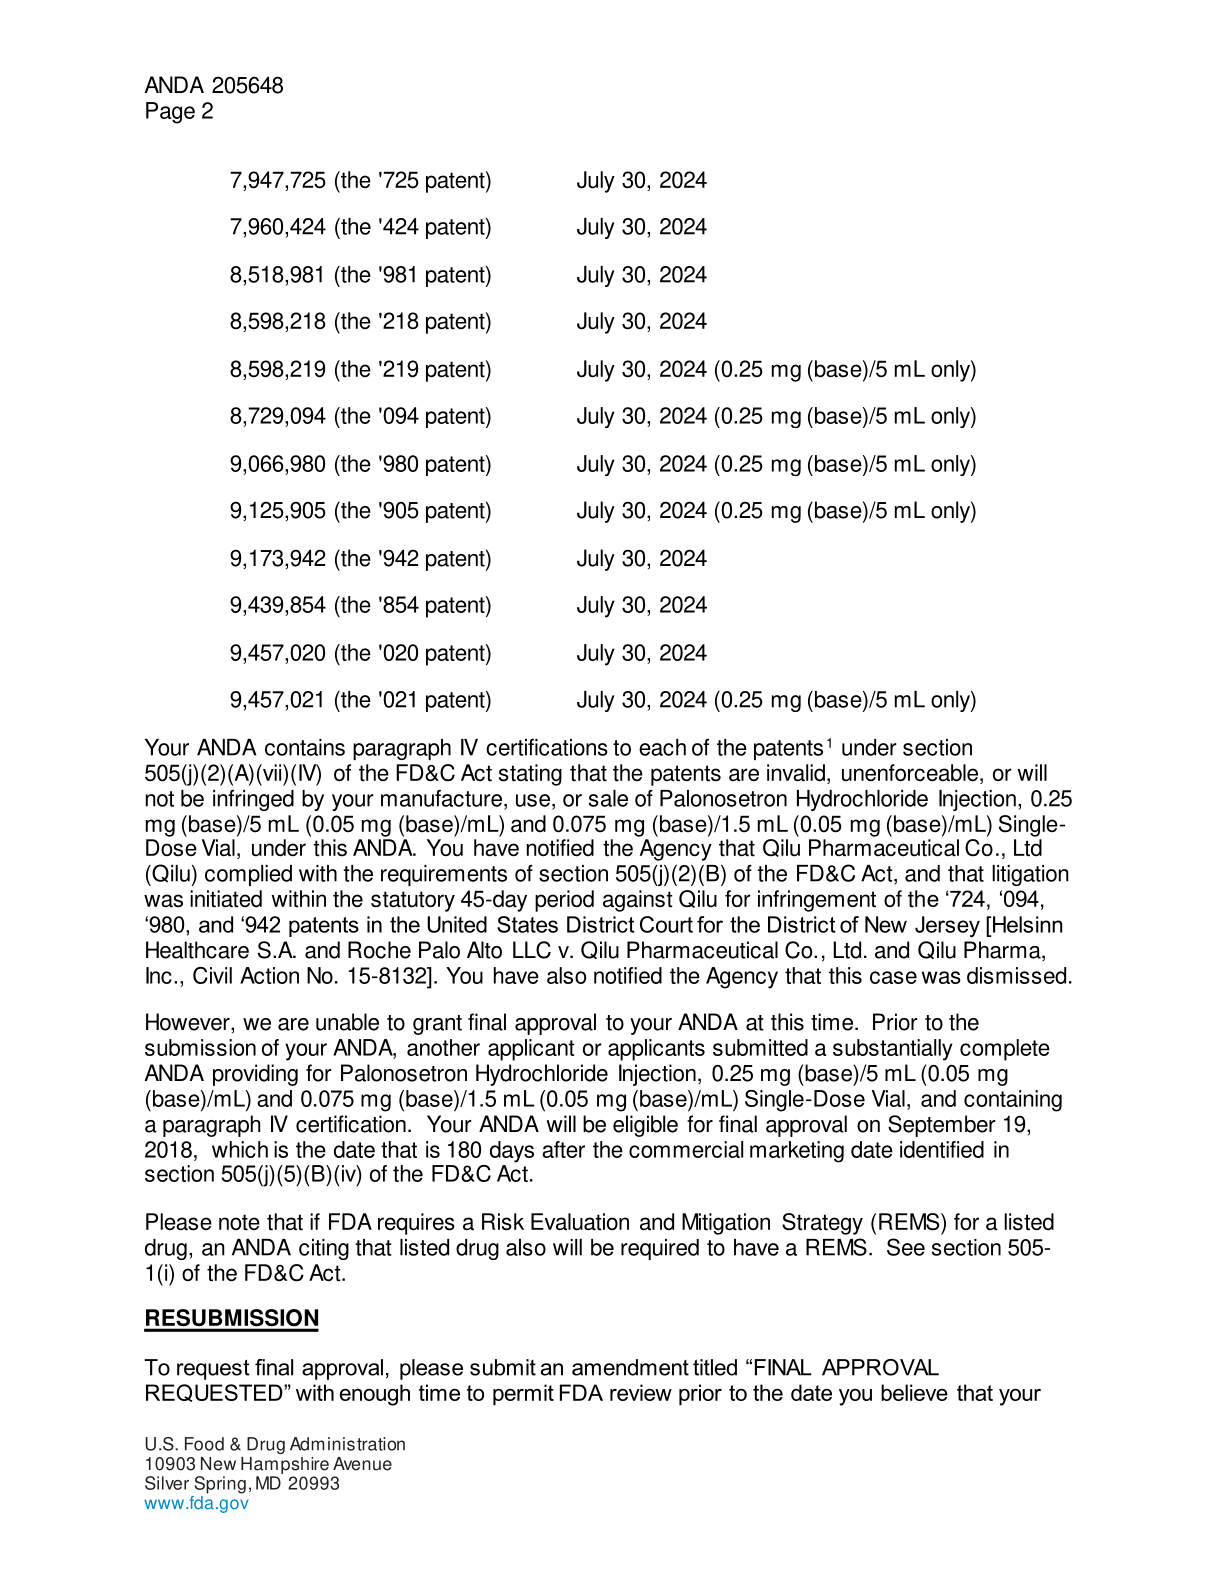nolines: (225, 166, 986, 717)
